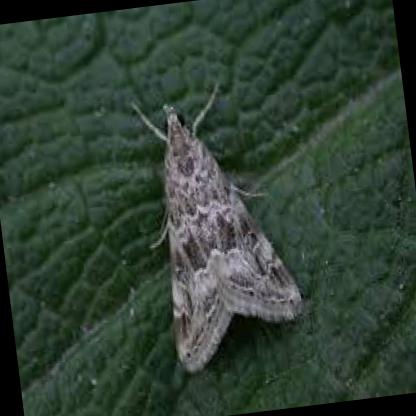Hellula undalis: (125, 80, 303, 377)
